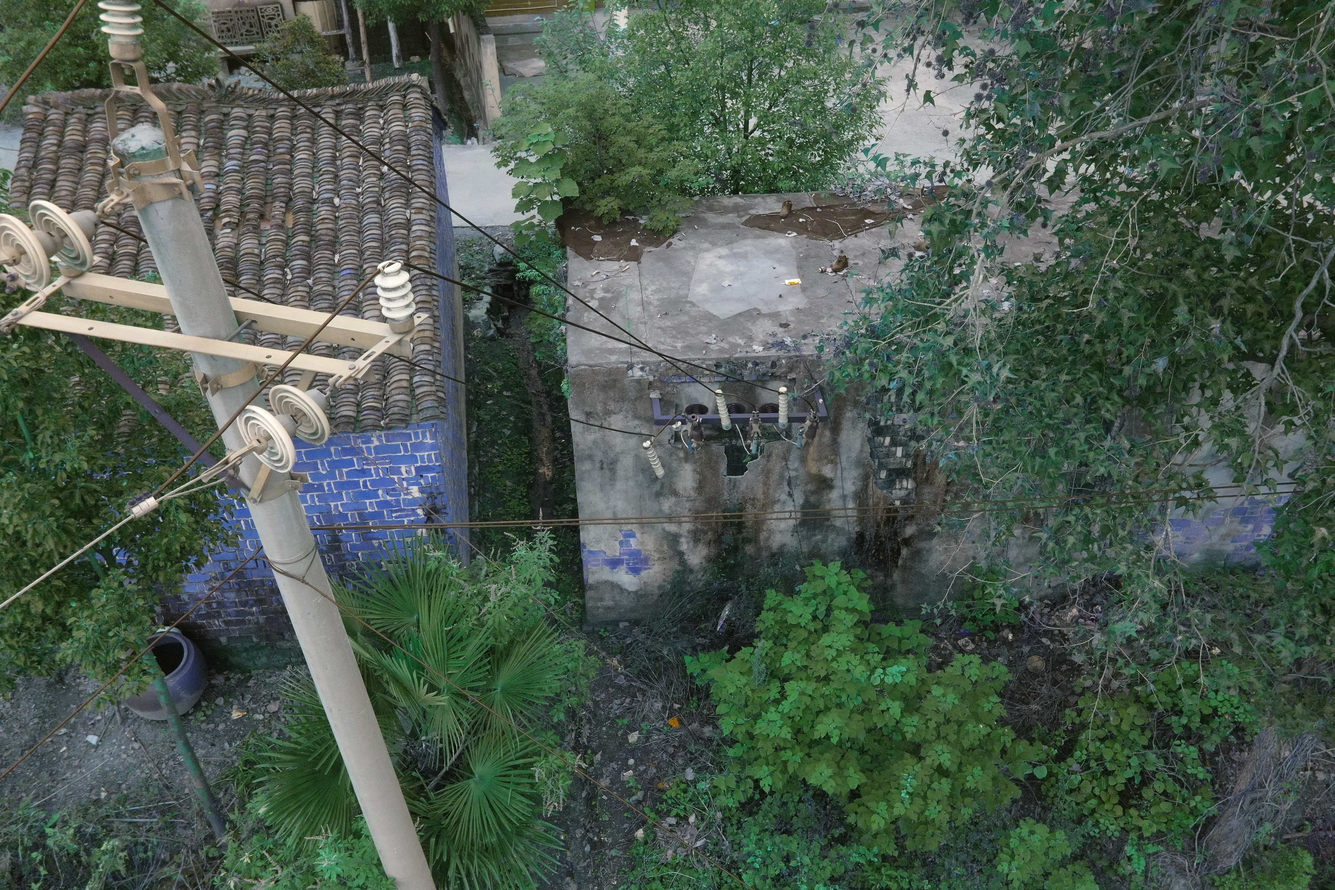severe_soiling_no_discharge_whole: (232, 381, 336, 471), (371, 258, 420, 335), (95, 1, 146, 65)
